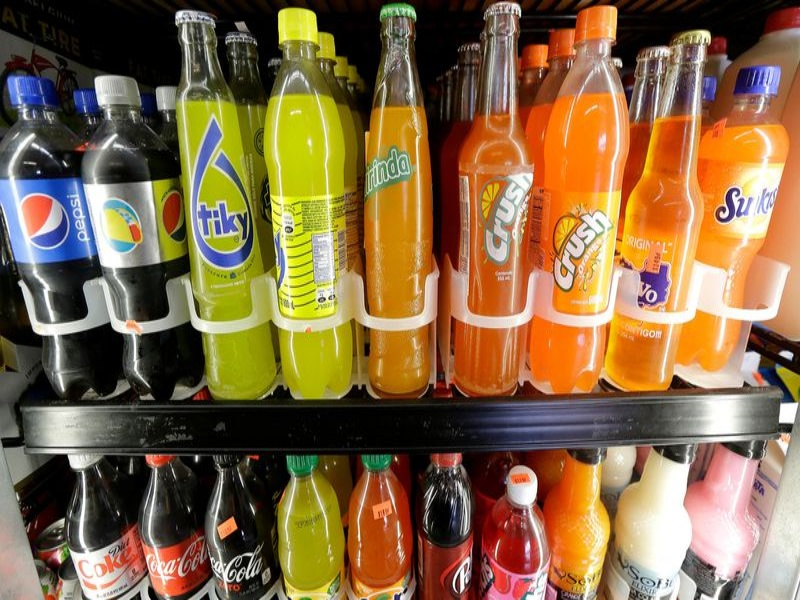Glass bottle: (139, 1, 292, 408), (617, 12, 718, 434), (355, 4, 455, 407), (448, 1, 534, 401)
Plastic bottle: (72, 70, 220, 407), (683, 43, 790, 416), (1, 44, 104, 406), (170, 437, 284, 593), (35, 442, 146, 584), (251, 450, 352, 600), (111, 440, 207, 590), (333, 442, 427, 583), (397, 435, 481, 589)
